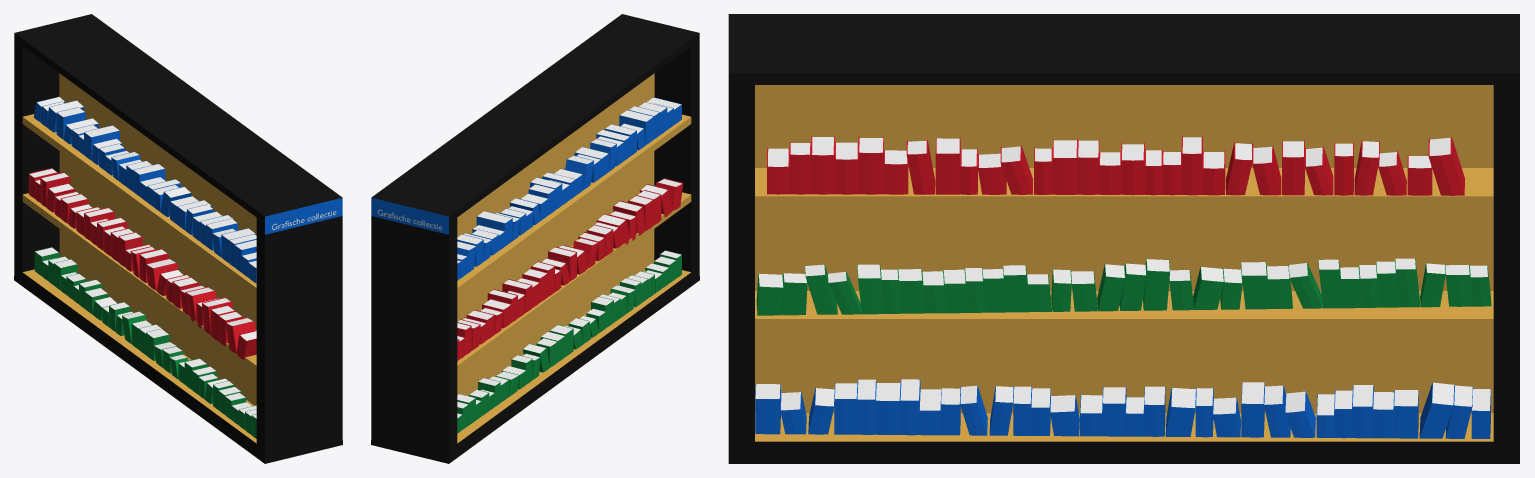
The model's file is bookshelve.glb.
The picture shows the model from 3 angles, left to right: view 1: azimuth 30°, elevation 25°; view 2: azimuth 150°, elevation 25°; view 3: azimuth 270°, elevation 25°; orthographic projection. The views are drawn at different scales.
Parts seen in each view (by area): view 1: Cube, book.034, book.137, book.001; view 2: Cube, book.137, book.034, book.001; view 3: Cube, book.046, book, book.014.
Boxes of the visible parts, x1,y1,x2,y2 form: Cube: (14, 14, 342, 463); book.034: (28, 168, 256, 360); book.137: (33, 96, 256, 283); book.001: (34, 247, 256, 438); Cube: (371, 14, 699, 463); book.137: (457, 97, 681, 280); book.034: (457, 178, 683, 360); book.001: (457, 250, 681, 433); Cube: (728, 14, 1519, 463); book.046: (755, 379, 1490, 438); book: (767, 136, 1464, 195); book.014: (756, 258, 1491, 315).
Bounding box in the file's own units: 0.6068 × 1.81 × 3.33.
